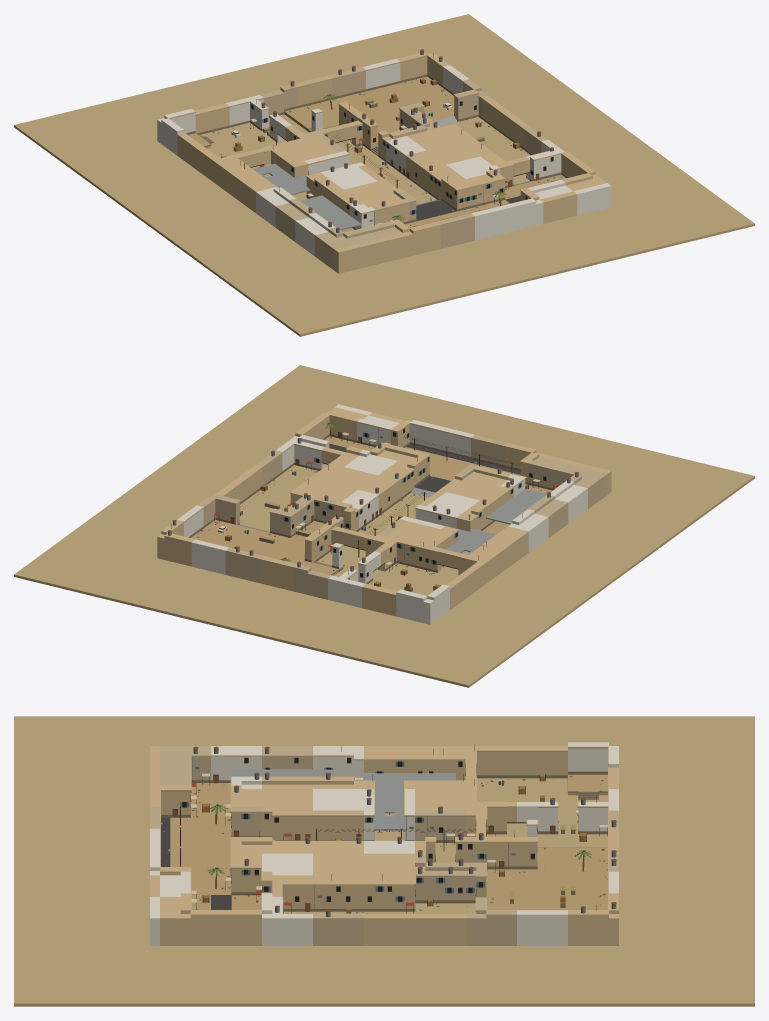
The model's file is changtepa.glb.
3 views of the same model, one above another, from view 1: azimuth 30°, elevation 25°; view 2: azimuth 150°, elevation 25°; view 3: azimuth 270°, elevation 25° (orthographic). The views are drawn at different scales.
Visible parts, largest first — view 1: world_sand_ground, world_sand_wall, world_plaster_white, world_stone_wall, world_sand_raised, decor_sand_wall, world_concrete, decor_stone_base, decor_wood_dark, decor_asphalt, decor_metal; view 2: world_sand_ground, world_sand_wall, world_plaster_white, world_stone_wall, world_sand_raised, decor_sand_wall, world_concrete, decor_stone_base, decor_wood_dark, decor_asphalt, decor_metal; view 3: world_sand_ground, world_sand_wall, world_plaster_white, world_sand_raised, world_stone_wall, decor_sand_wall, decor_stone_base, world_concrete, decor_wood_dark, decor_metal, decor_window_dark, decor_asphalt (+3 smaller).
Part boxes in pixels (x1,y1,x2,y2): world_sand_ground: (14,14,754,336); world_sand_wall: (177,52,606,273); world_plaster_white: (157,59,611,256); world_stone_wall: (260,67,547,270); world_sand_raised: (188,76,565,232); decor_sand_wall: (168,55,588,232); world_concrete: (253,116,533,230); decor_stone_base: (186,59,568,229); decor_wood_dark: (221,53,553,225); decor_asphalt: (416,196,520,220); decor_metal: (261,51,553,233); world_sand_ground: (14,365,754,687); world_sand_wall: (157,407,611,616); world_plaster_white: (177,404,587,624); world_stone_wall: (197,434,607,599); world_sand_raised: (191,436,552,575); decor_sand_wall: (171,414,574,595); world_concrete: (237,487,547,554); decor_stone_base: (188,423,570,583); decor_wood_dark: (171,428,564,590); decor_asphalt: (329,443,520,492); decor_metal: (168,428,578,571); world_sand_ground: (14,716,754,1006); world_sand_wall: (150,746,618,945); world_plaster_white: (150,742,618,945); world_sand_raised: (170,774,607,909); world_stone_wall: (150,746,618,945); decor_sand_wall: (160,746,608,913); decor_stone_base: (161,748,608,913); world_concrete: (231,769,455,840); decor_wood_dark: (172,744,607,913); decor_metal: (180,746,616,917); decor_window_dark: (182,758,534,901); decor_asphalt: (161,817,231,909).
Bounding box in the file's own units: 200 × 13.4 × 218.
